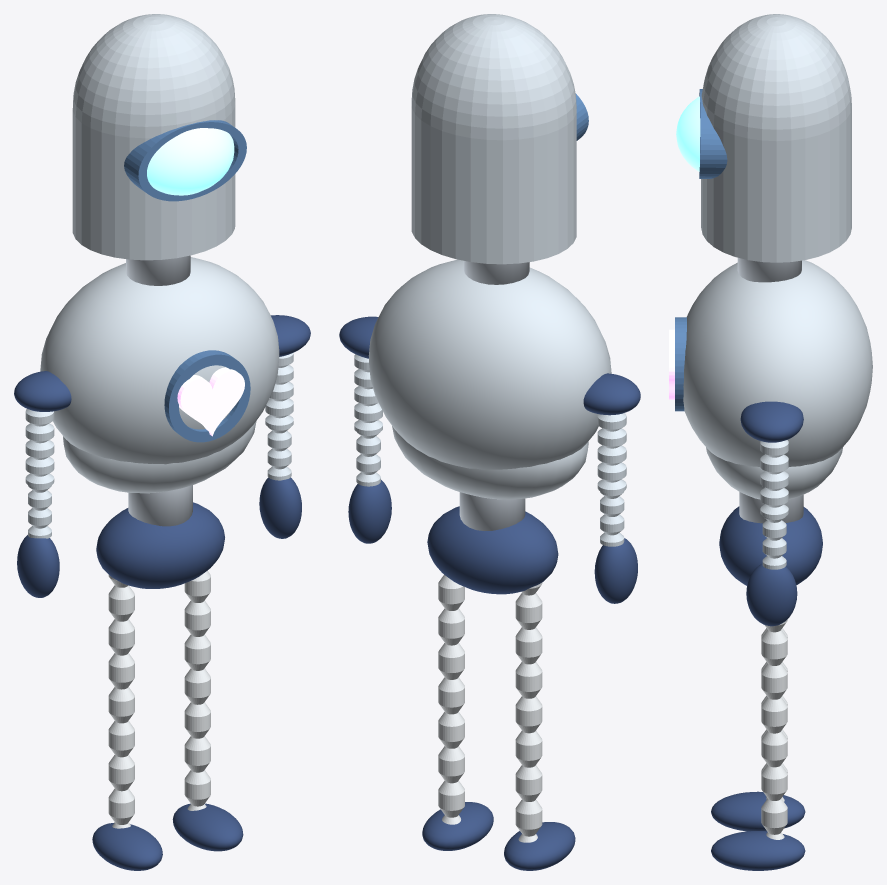
Rendered from bishop.glb.
The picture shows the model from 3 angles, left to right: view 1: azimuth 30°, elevation 25°; view 2: azimuth 150°, elevation 25°; view 3: azimuth 270°, elevation 25°; orthographic projection.
Parts seen in each view (by area): view 1: bishop_torso_main, bishop_head_cyl, bishop_head_visor.003, bishop_leg_left, bishop_leg_right, bishop_torso_belly, bishop_head_visor.002, bishop_heart_border, bishop_eye_ring, bishop_heart, bishop_head_visor.005, bishop_head_visor.006 (+10 smaller); view 2: bishop_torso_main, bishop_head_cyl, bishop_head_visor.003, bishop_leg_left, bishop_leg_right, bishop_torso_belly, bishop_head_visor.005, bishop_head_visor.006, bishop_arm_left_upper, bishop_head_visor.001, bishop_head_visor.004, bishop_neck.002 (+6 smaller); view 3: bishop_head_cyl, bishop_torso_main, bishop_leg_right, bishop_head_visor.003, bishop_head_visor.006, bishop_torso_belly, bishop_head_visor.004, bishop_head_visor.005, bishop_head_visor.008, bishop_arm_right_upper, bishop_eye_ring, bishop_head_visor.002 (+5 smaller).
Boxes of the visible parts, bbox=[...] form: bishop_torso_main: bbox=[40, 257, 279, 464]; bishop_head_cyl: bbox=[72, 14, 235, 260]; bishop_head_visor.003: bbox=[96, 502, 224, 588]; bishop_leg_left: bbox=[108, 575, 134, 828]; bishop_leg_right: bbox=[184, 570, 210, 810]; bishop_torso_belly: bbox=[63, 421, 256, 493]; bishop_head_visor.002: bbox=[147, 128, 234, 195]; bishop_heart_border: bbox=[164, 350, 250, 442]; bishop_eye_ring: bbox=[124, 120, 246, 201]; bishop_heart: bbox=[177, 367, 244, 436]; bishop_head_visor.005: bbox=[92, 823, 162, 870]; bishop_head_visor.006: bbox=[172, 803, 243, 851]; bishop_torso_main: bbox=[368, 259, 611, 469]; bishop_head_cyl: bbox=[411, 14, 576, 264]; bishop_head_visor.003: bbox=[427, 506, 558, 594]; bishop_leg_left: bbox=[515, 583, 542, 842]; bishop_leg_right: bbox=[438, 574, 464, 824]; bishop_torso_belly: bbox=[392, 426, 588, 499]; bishop_head_visor.005: bbox=[504, 822, 575, 870]; bishop_head_visor.006: bbox=[422, 802, 493, 850]; bishop_arm_left_upper: bbox=[597, 413, 626, 493]; bishop_head_visor.001: bbox=[594, 538, 637, 603]; bishop_head_visor.004: bbox=[348, 480, 391, 543]; bishop_neck.002: bbox=[459, 492, 525, 530]; bishop_head_cyl: bbox=[701, 14, 851, 262]; bishop_torso_main: bbox=[683, 260, 872, 467]; bishop_leg_right: bbox=[761, 619, 787, 839]; bishop_head_visor.003: bbox=[719, 506, 822, 585]; bishop_head_visor.006: bbox=[711, 831, 805, 870]; bishop_torso_belly: bbox=[706, 447, 842, 499]; bishop_head_visor.004: bbox=[746, 563, 797, 626]; bishop_head_visor.005: bbox=[711, 791, 805, 831]; bishop_head_visor.008: bbox=[740, 401, 803, 442]; bishop_arm_right_upper: bbox=[760, 440, 788, 518]; bishop_eye_ring: bbox=[699, 89, 727, 178]; bishop_head_visor.002: bbox=[676, 96, 700, 171].
Size of the model in its own units: 0.6101 by 1.66 by 0.373.
